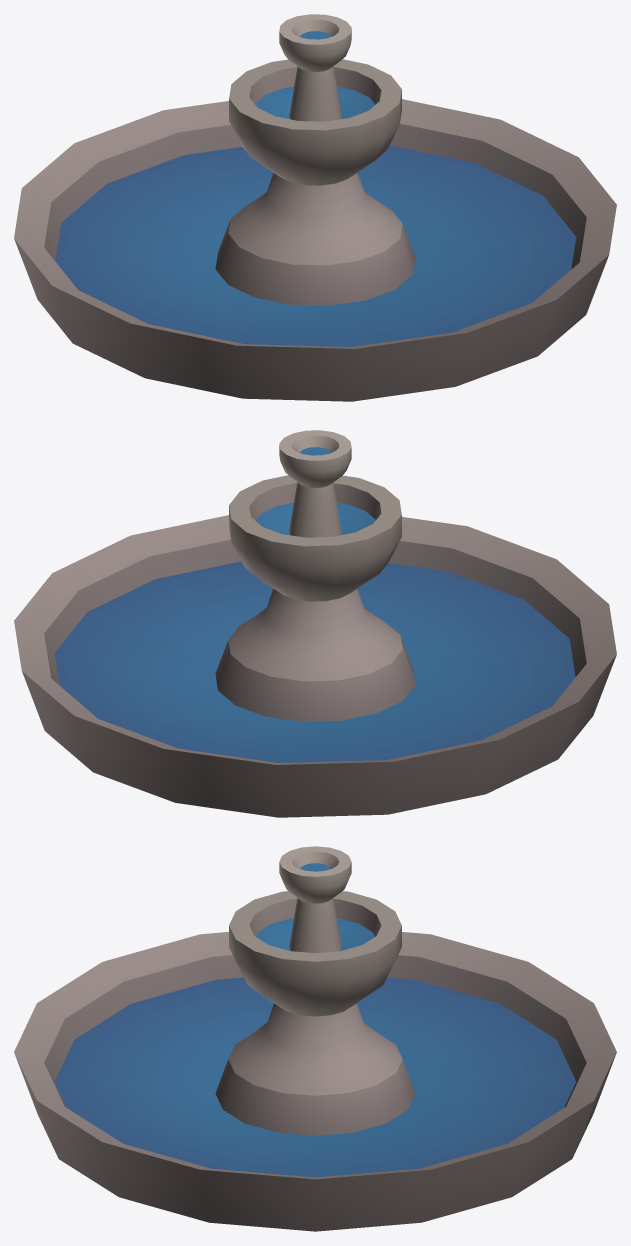
File: fountain.fbx
The picture shows the model from 3 angles, top to bottom: view 1: azimuth 30°, elevation 25°; view 2: azimuth 150°, elevation 25°; view 3: azimuth 270°, elevation 25°; orthographic projection.
Parts seen in each view (by area): view 1: Fountain1; view 2: Fountain1; view 3: Fountain1.
Boxes of the visible parts, <box> form: Fountain1: <box>14,14,616,401</box>; Fountain1: <box>14,430,616,817</box>; Fountain1: <box>14,846,616,1231</box>.
Bounding box in the file's own units: 172 × 79.5 × 172.
1 material, 1 textured.
